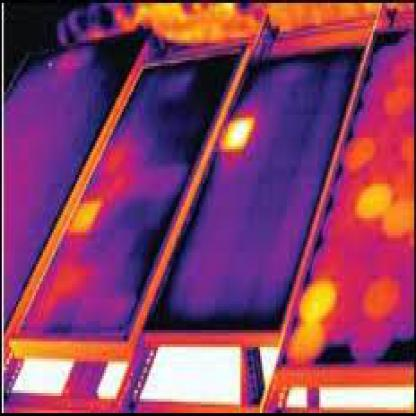Defects: (221, 115, 251, 155), (302, 284, 334, 318), (290, 324, 322, 358), (362, 284, 396, 312), (362, 180, 390, 212), (72, 200, 98, 232), (389, 207, 411, 238), (344, 140, 369, 166)
